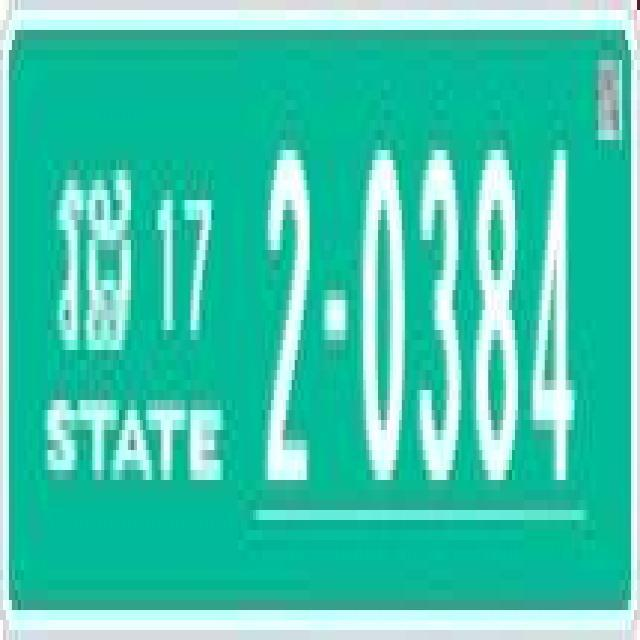State: (54, 160, 142, 366)
